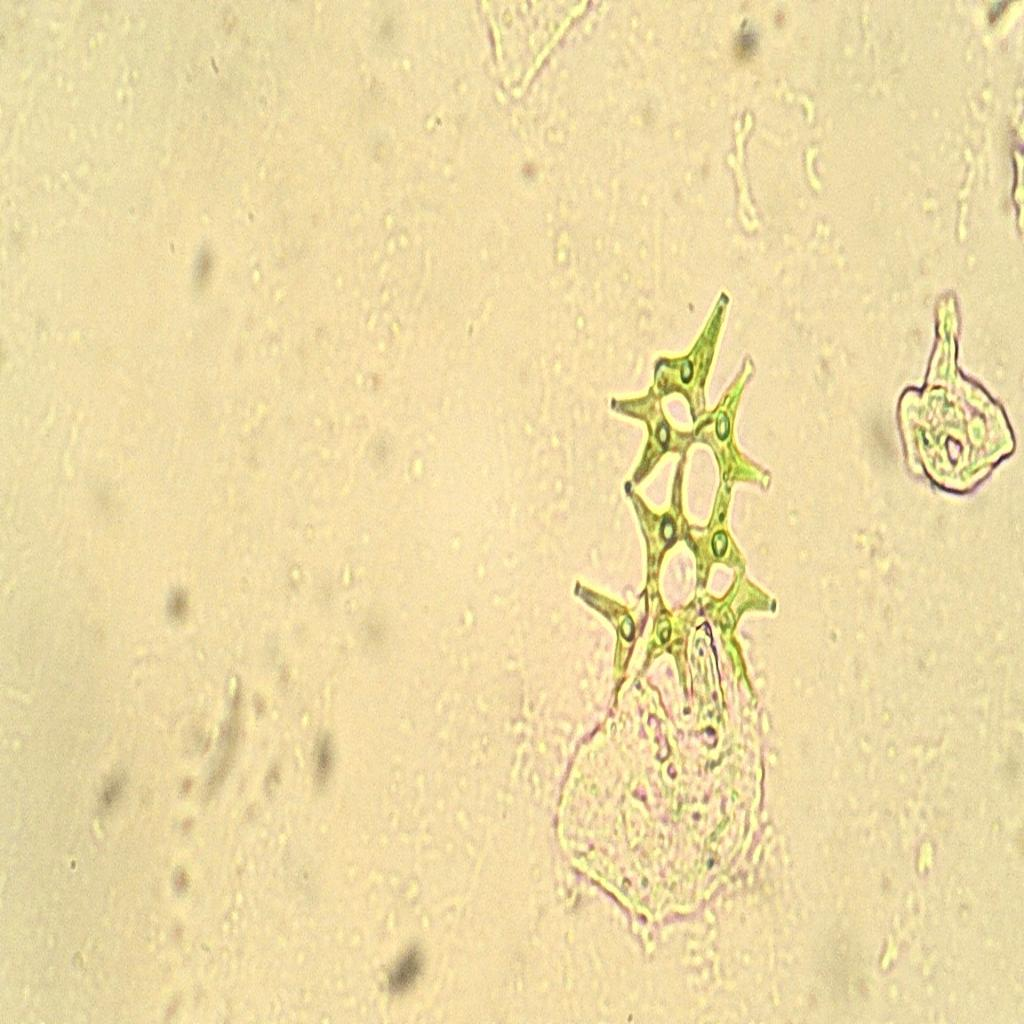Pediastrum_1TH: (562, 288, 798, 750)
